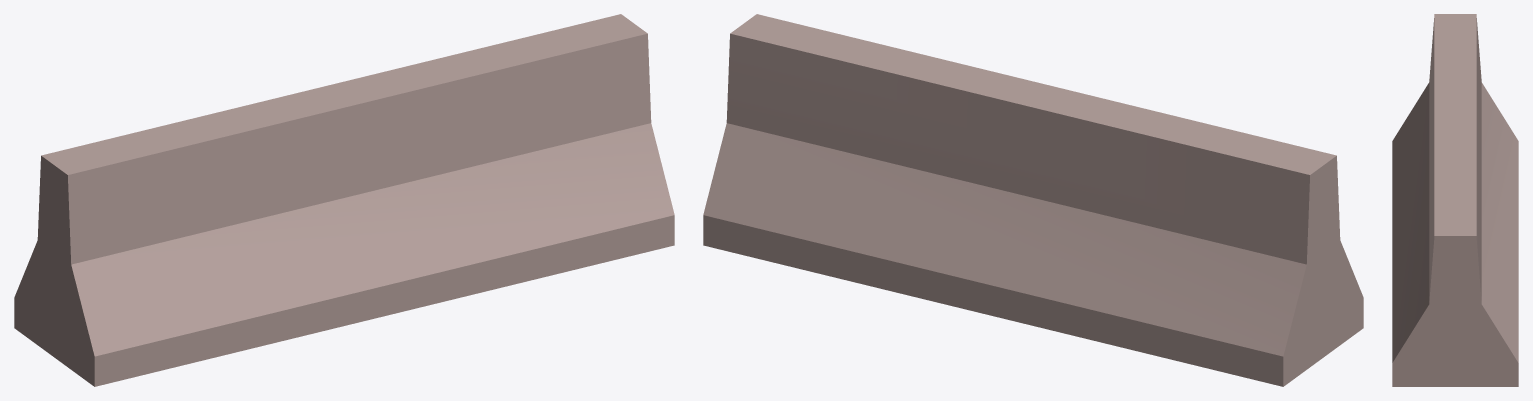
Rendered from prop.jersey-barrier.lod2.glb.
The picture shows the model from 3 angles, left to right: view 1: azimuth 30°, elevation 25°; view 2: azimuth 150°, elevation 25°; view 3: azimuth 270°, elevation 25°; orthographic projection. The views are drawn at different scales.
Parts seen in each view (by area): view 1: body; view 2: body; view 3: body.
Part boxes in pixels (x1,y1,x2,y2): body: [14, 14, 674, 386]; body: [703, 14, 1363, 386]; body: [1392, 14, 1518, 386].
Size of the model in its own units: 3 by 0.95 by 0.72.
